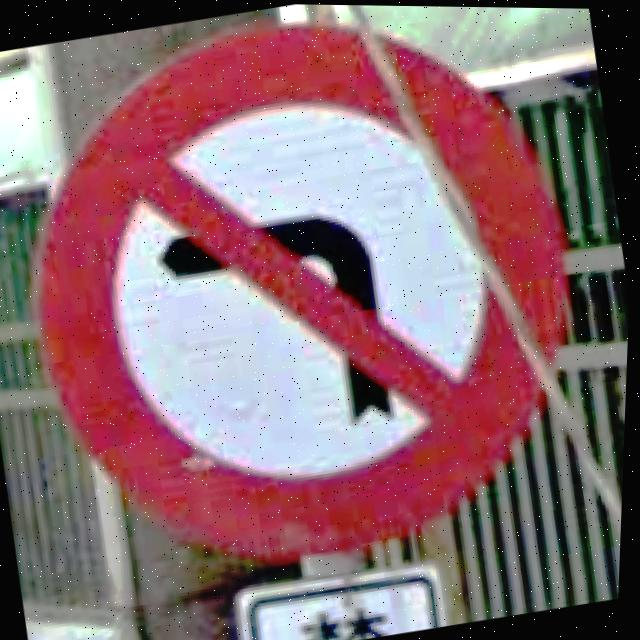noturnleft: (37, 24, 571, 562)
